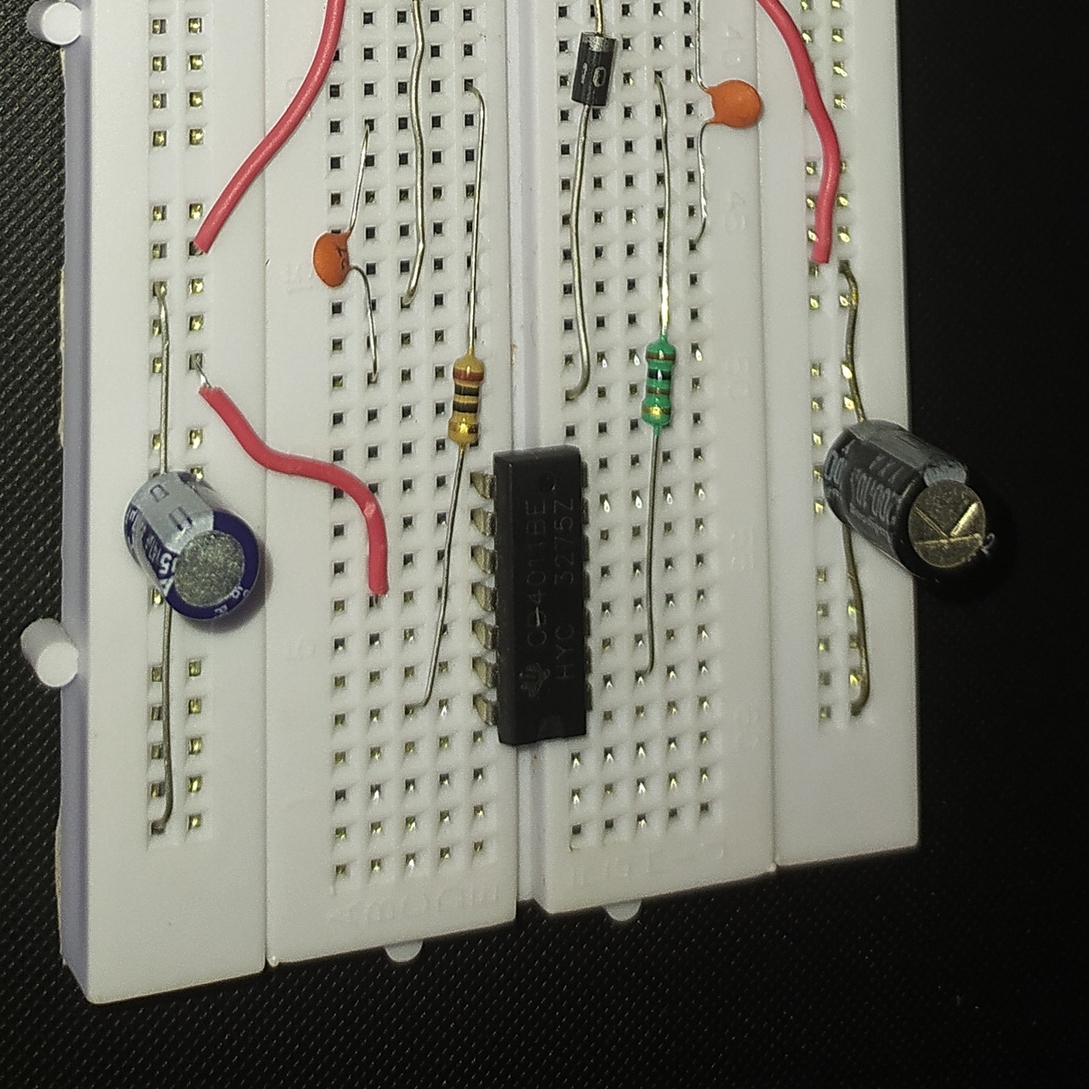capacitor: (817, 416, 999, 583), (124, 471, 259, 618), (313, 229, 366, 286)
resistor: (449, 356, 484, 450), (644, 337, 678, 429)
